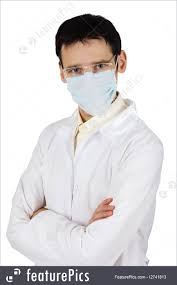masked: (53, 16, 130, 116)
